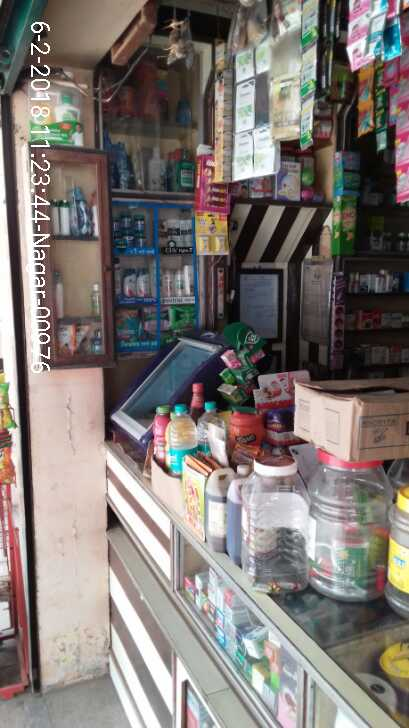vicks: (113, 210, 148, 250)
